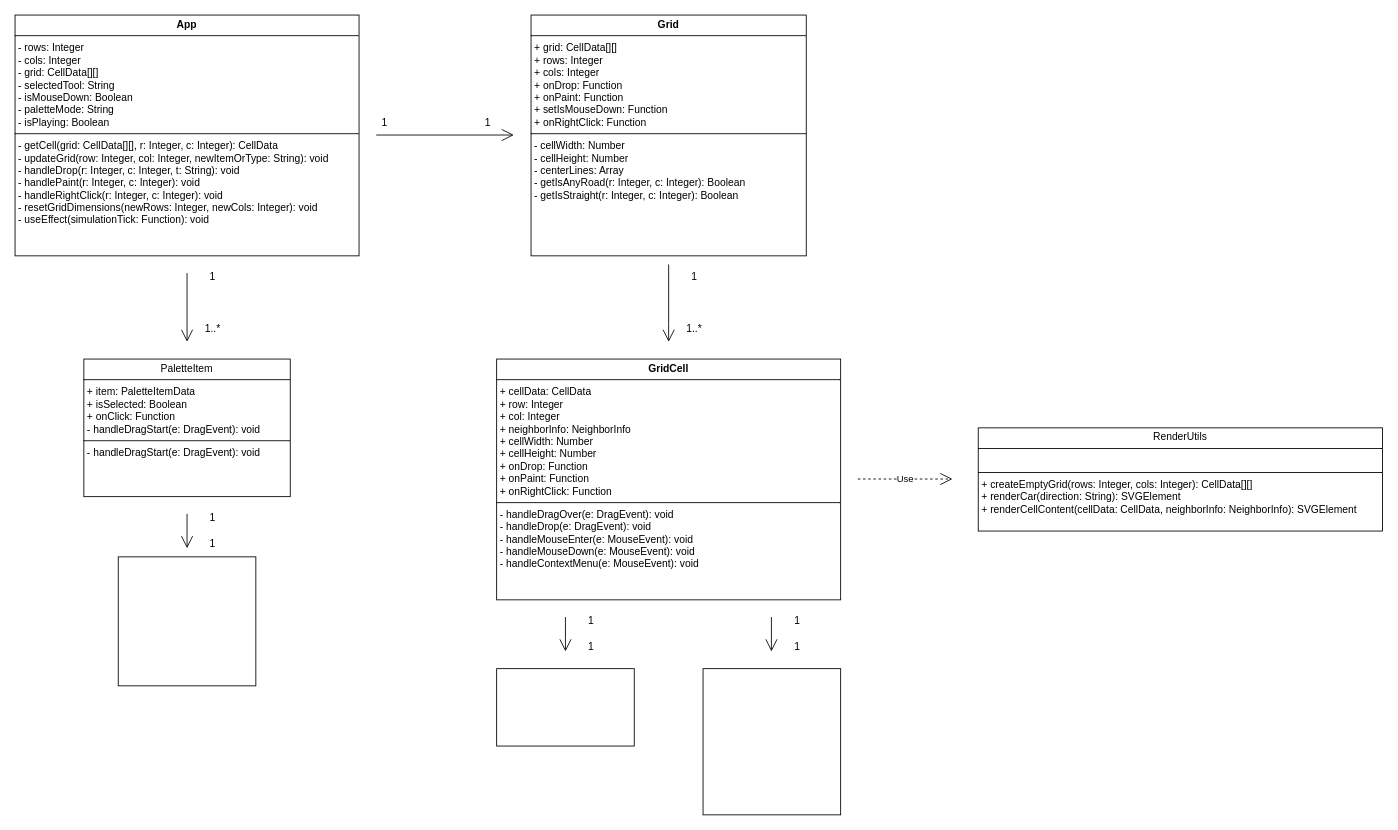
Some shapes in this 1398 by 830 pixel diagram are drawn without their labels. The shapes that lost their labels are listed below. From the top down, each one's centre as x and y in pixels, then its label:
point 186,621: PaletteItemData + type: String + label: String + emoji: String
point 565,707: CellData + type: String + hasCar: String | Boolean
point 771,741: NeighborInfo + up: Boolean + down: Boolean + left: Boolean + right: Boolean
